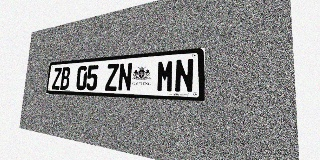0: (76, 66, 88, 90)
5: (86, 65, 99, 90)
B: (60, 67, 71, 90)
M: (156, 59, 174, 92)
N: (174, 58, 194, 93), (117, 62, 133, 91)
Z: (105, 63, 119, 91), (52, 67, 62, 90)
